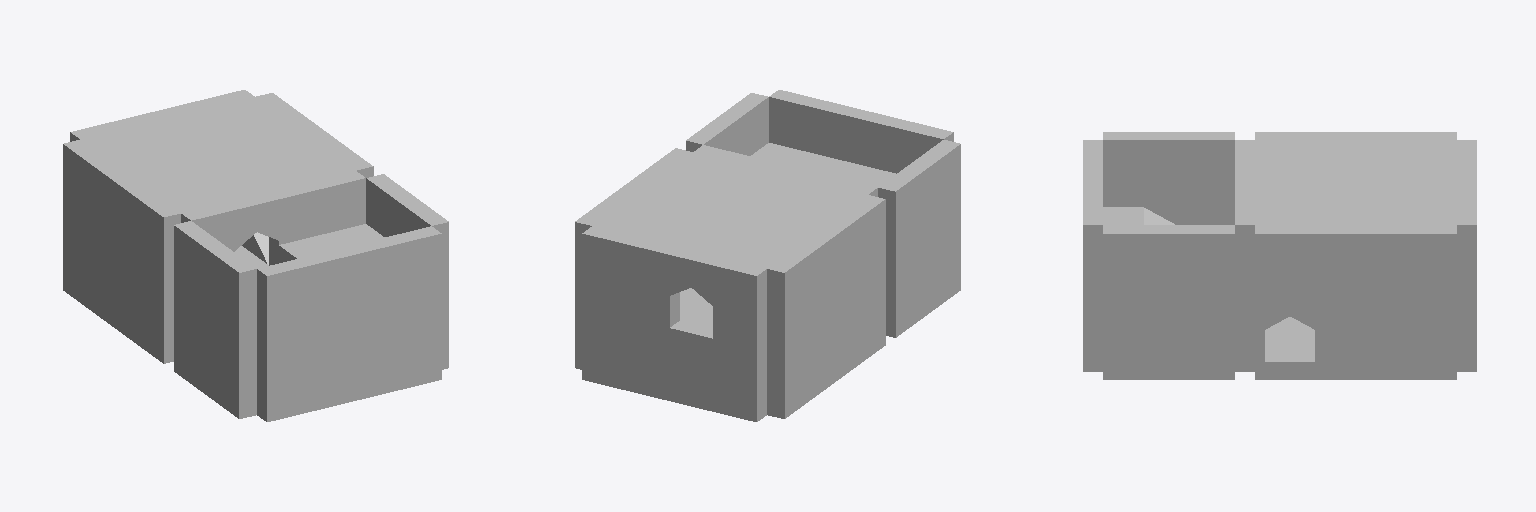
The model's file is camtest.obj.
3 views of the same model, side by side, from view 1: azimuth 30°, elevation 25°; view 2: azimuth 150°, elevation 25°; view 3: azimuth 270°, elevation 25° (orthographic).
Parts seen in each view (by area): view 1: entity0_brush44, entity0_brush43, entity0_brush1, entity0_brush9, entity0_brush2, entity0_brush10, entity0_brush12, entity0_brush13, entity0_brush11, entity0_brush45, entity0_brush47, entity0_brush25 (+3 smaller); view 2: entity0_brush5, entity0_brush43, entity0_brush9, entity0_brush44, entity0_brush18, entity0_brush1, entity0_brush10, entity0_brush11, entity0_brush12, entity0_brush13, entity0_brush19, entity0_brush45 (+5 smaller); view 3: entity0_brush45, entity0_brush7, entity0_brush43, entity0_brush32, entity0_brush44, entity0_brush11, entity0_brush12, entity0_brush10, entity0_brush13, entity0_brush4, entity0_brush2, entity0_brush5 (+6 smaller).
Part boxes in pixels (left/top/right/bottom): entity0_brush44: left=257, top=226, right=441, bottom=421; entity0_brush43: left=174, top=221, right=256, bottom=418; entity0_brush1: left=113, top=176, right=180, bottom=363; entity0_brush9: left=63, top=140, right=129, bottom=326; entity0_brush2: left=269, top=171, right=365, bottom=265; entity0_brush10: left=168, top=97, right=304, bottom=154; entity0_brush12: left=131, top=155, right=267, bottom=212; entity0_brush13: left=219, top=134, right=355, bottom=191; entity0_brush11: left=80, top=118, right=216, bottom=175; entity0_brush45: left=366, top=174, right=448, bottom=369; entity0_brush47: left=279, top=224, right=384, bottom=262; entity0_brush25: left=181, top=203, right=234, bottom=251; entity0_brush5: left=582, top=226, right=679, bottom=400; entity0_brush43: left=878, top=140, right=960, bottom=337; entity0_brush9: left=767, top=232, right=834, bottom=418; entity0_brush44: left=769, top=90, right=953, bottom=173; entity0_brush18: left=713, top=258, right=766, bottom=421; entity0_brush1: left=818, top=195, right=885, bottom=381; entity0_brush10: left=593, top=189, right=729, bottom=246; entity0_brush11: left=680, top=211, right=816, bottom=268; entity0_brush12: left=730, top=174, right=866, bottom=231; entity0_brush13: left=644, top=152, right=779, bottom=209; entity0_brush19: left=670, top=321, right=712, bottom=411; entity0_brush45: left=686, top=93, right=768, bottom=155; entity0_brush45: left=1103, top=225, right=1234, bottom=379; entity0_brush7: left=1356, top=225, right=1456, bottom=379; entity0_brush43: left=1103, top=132, right=1234, bottom=224; entity0_brush32: left=1315, top=225, right=1355, bottom=379; entity0_brush44: left=1083, top=140, right=1102, bottom=371; entity0_brush11: left=1356, top=140, right=1456, bottom=182; entity0_brush12: left=1255, top=140, right=1355, bottom=182; entity0_brush10: left=1356, top=183, right=1456, bottom=224; entity0_brush13: left=1255, top=183, right=1355, bottom=224; entity0_brush4: left=1265, top=225, right=1314, bottom=306; entity0_brush2: left=1235, top=183, right=1254, bottom=371; entity0_brush5: left=1457, top=183, right=1476, bottom=371.
Bounding box in the file's own units: 768 × 512 × 1248.